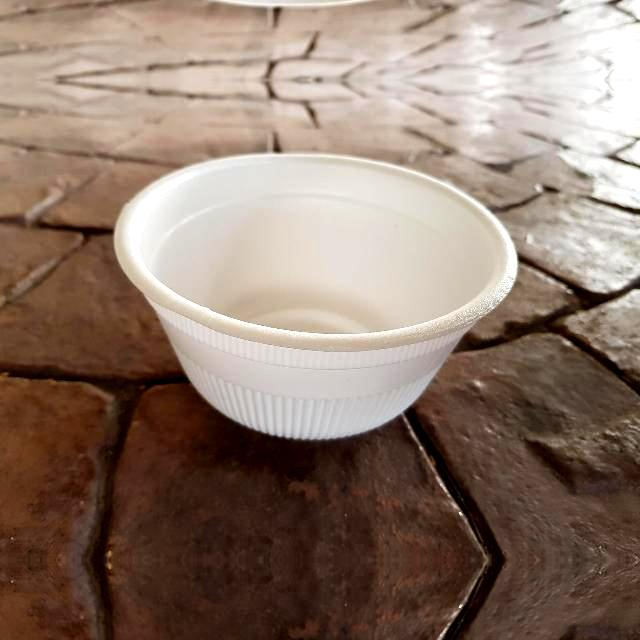Styrofoam: (114, 151, 518, 443), (114, 153, 518, 440)
